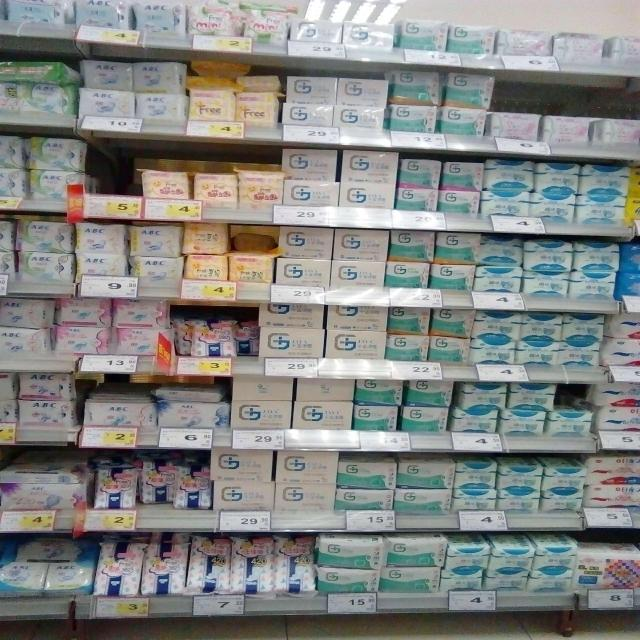empty_space: (84, 151, 137, 192)
